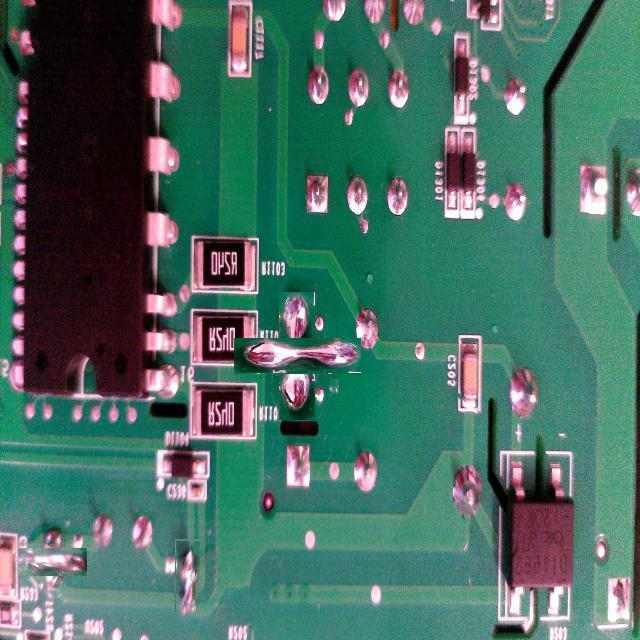Short_circuit: (256, 315, 338, 397), (175, 540, 205, 620), (28, 538, 76, 587)
